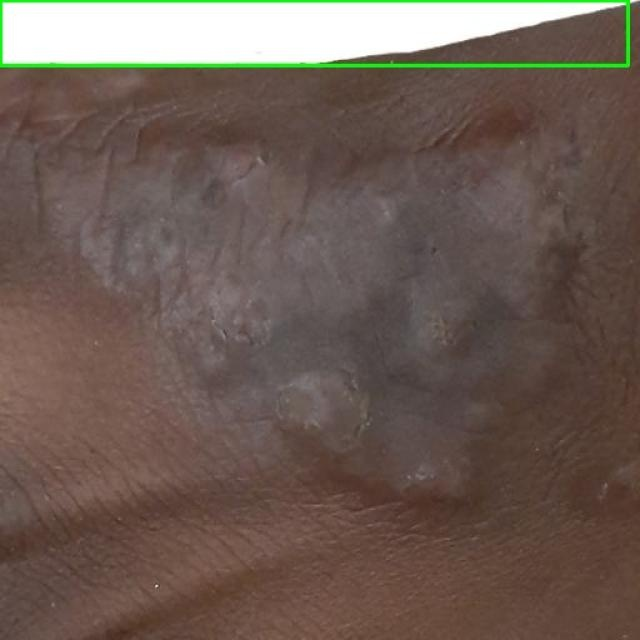Seborrheic Dermatitis: (0, 0, 628, 65)
